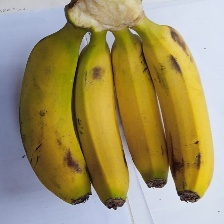banana: (8, 45, 204, 208)
